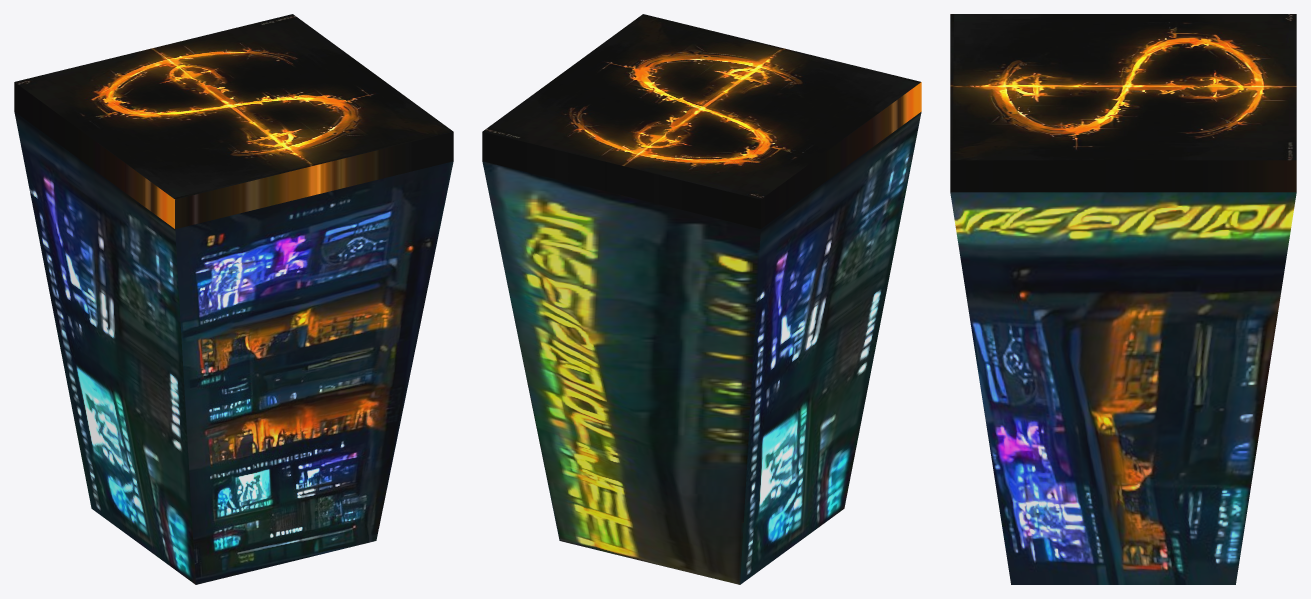
The model's file is kasyno.glb.
3 renders of one model, left to right at view 1: azimuth 30°, elevation 25°; view 2: azimuth 150°, elevation 25°; view 3: azimuth 270°, elevation 25°, orthographic. The views are drawn at different scales.
Visible parts, largest first — view 1: Kasyno; view 2: Kasyno; view 3: Kasyno.
Boxes of the visible parts, box(x1,y1,x2,y2) form: Kasyno: box(14, 14, 453, 584); Kasyno: box(482, 14, 921, 584); Kasyno: box(950, 14, 1296, 584).
Size of the model in its own units: 1.02 by 1.46 by 1.02.
Materials: 2 (2 with a texture image).
